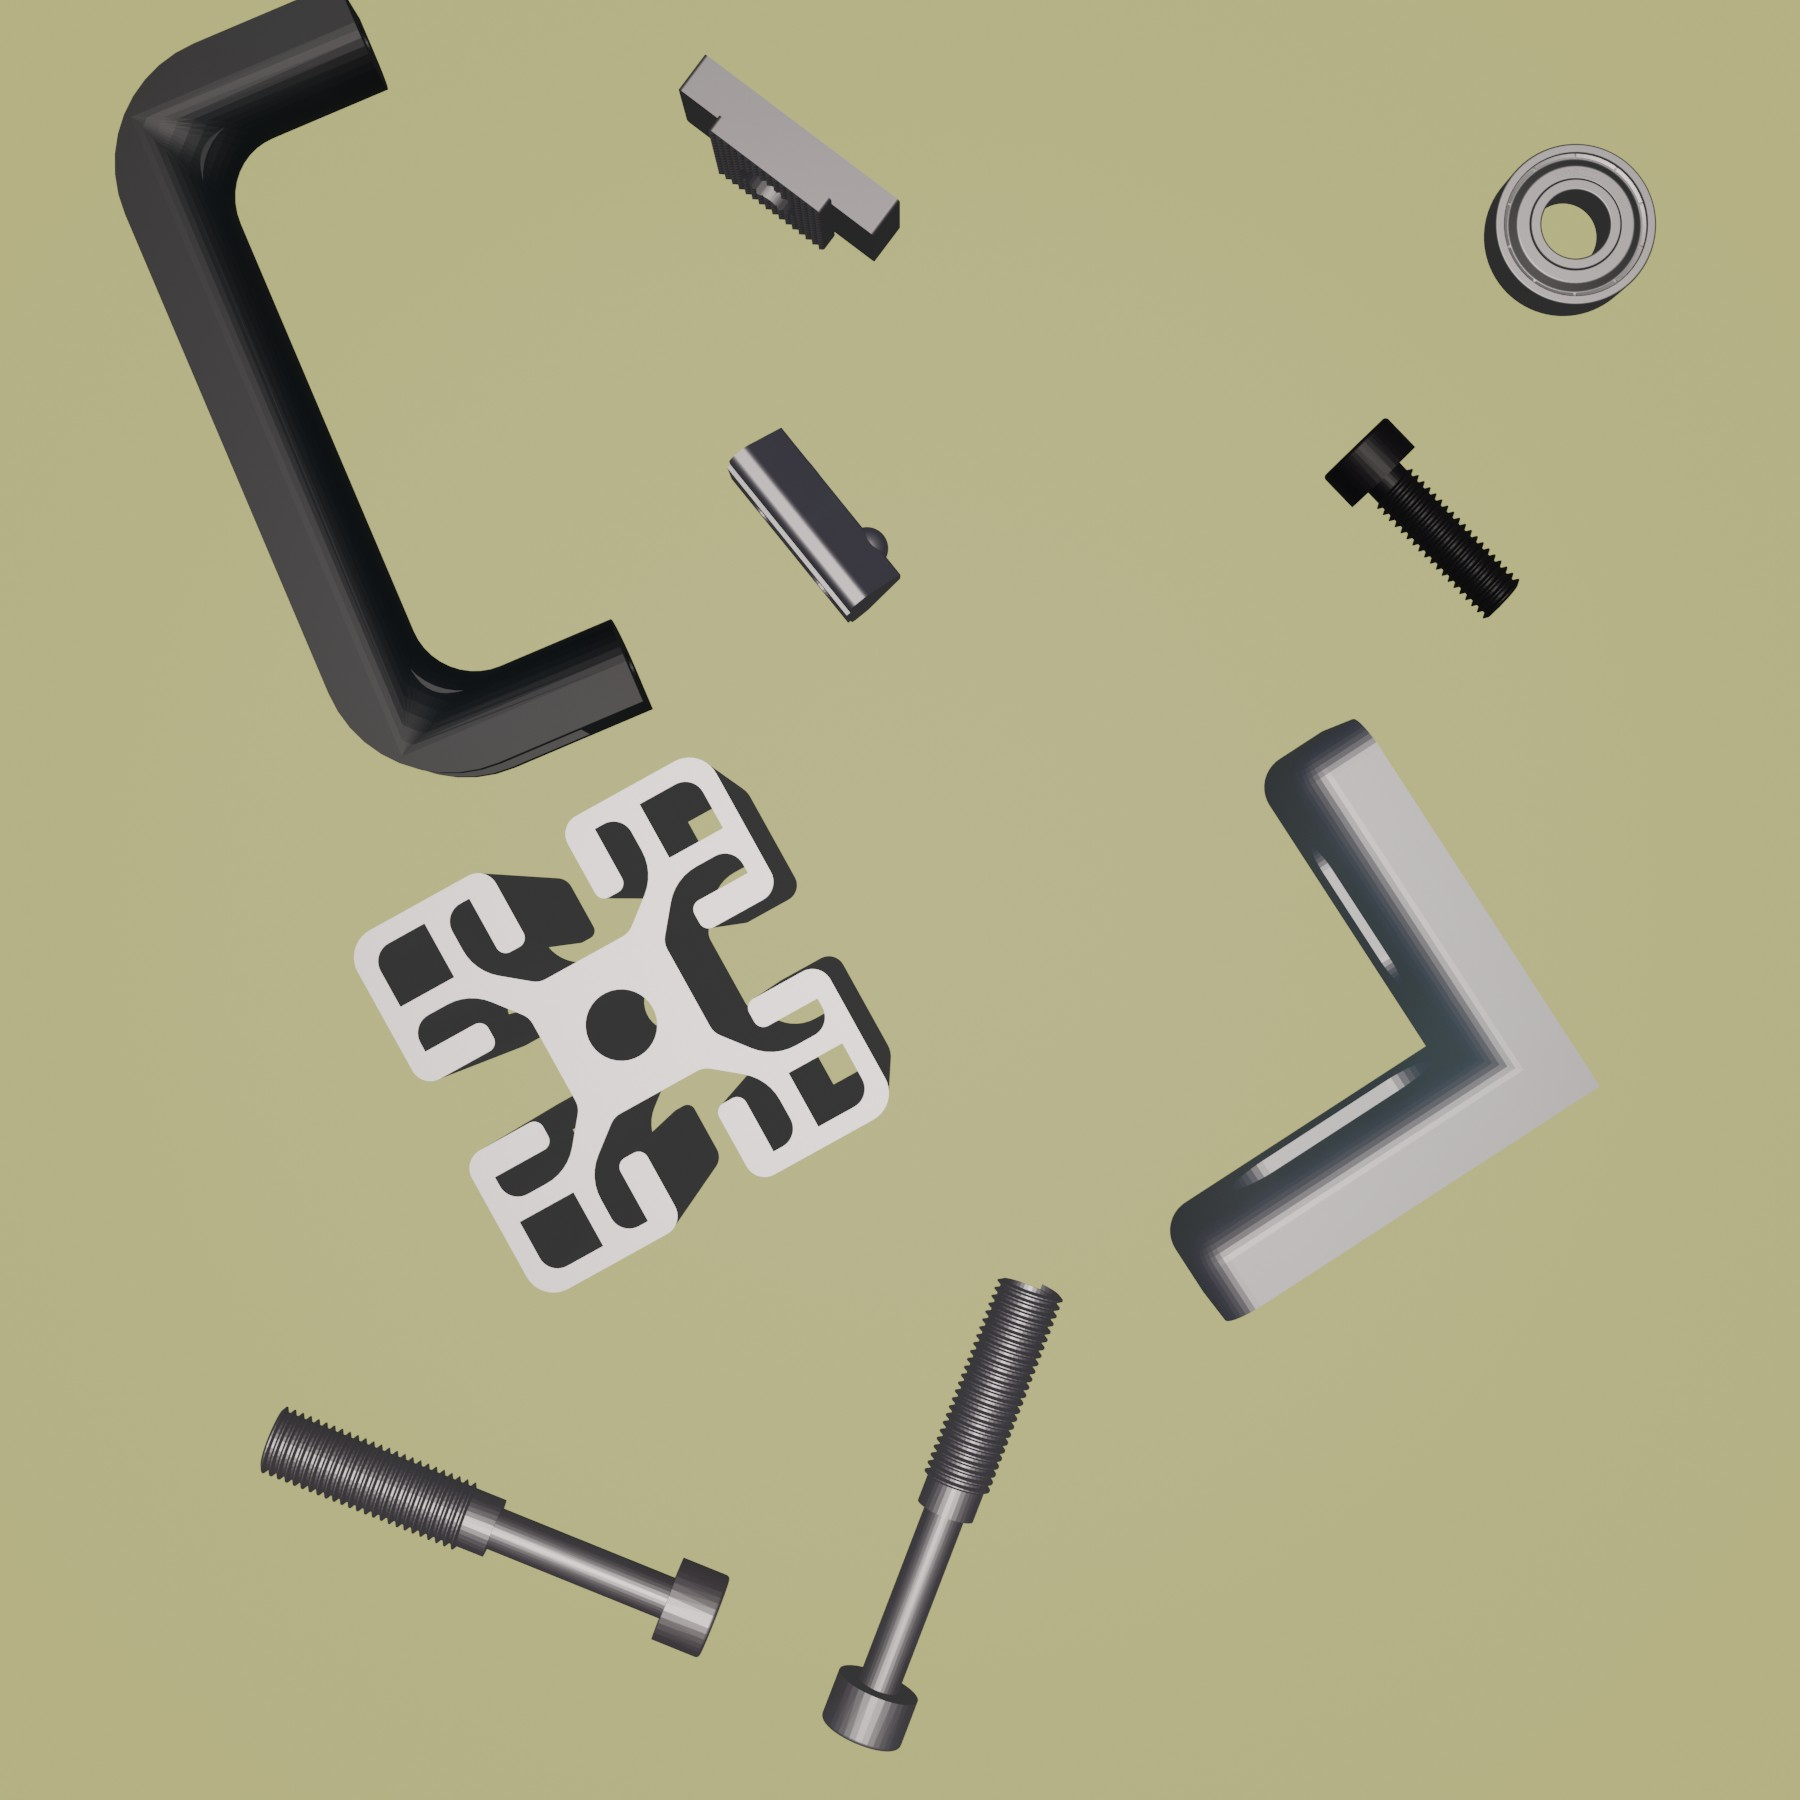Aluminium Extension: (351, 755, 893, 1296)
Ball Bearing: (1480, 138, 1662, 320)
Multiwinkel: (1167, 714, 1605, 1324)
Pull Handle: (114, 3, 656, 781)
Shoulder Socket Head Cap Screw: (255, 1408, 732, 1658), (819, 1274, 1066, 1752)
Socket Head Cap Screw: (1320, 415, 1520, 621)
T Nut Square: (676, 49, 903, 265)
T Spring Nut: (724, 424, 903, 625)
